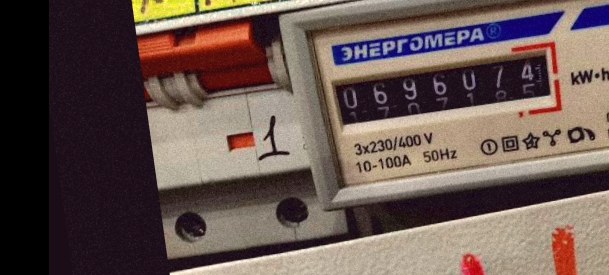0: (339, 83, 361, 109), (459, 64, 479, 91)
4: (517, 56, 536, 80)
5: (521, 81, 539, 98)
6: (431, 68, 451, 96), (370, 79, 391, 105)
7: (489, 61, 509, 88)
9: (400, 74, 419, 102)
screen: (320, 36, 567, 137)
